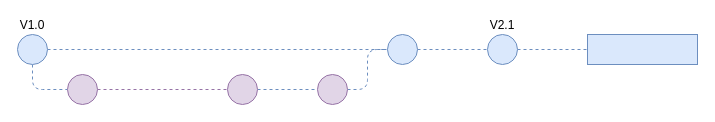
The diagram is 715 pixels wide and 122 high, and some of its shapes have lost their labels. The shapes that lost their labels are listed below. From the top down, each one's centre as x and y in pixels, then its label:
the point at 402,49: V2.0
the point at 642,49: Master
